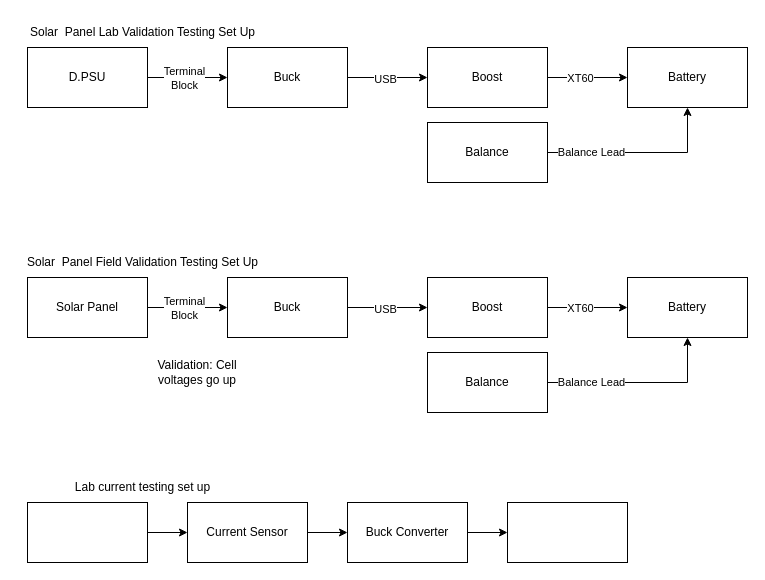
Image size: 765x580. Some labels were removed from this diagram. Each missing label, with the centre of its shape:
Component: [567,532]
Digital Power Supply: [87,532]
